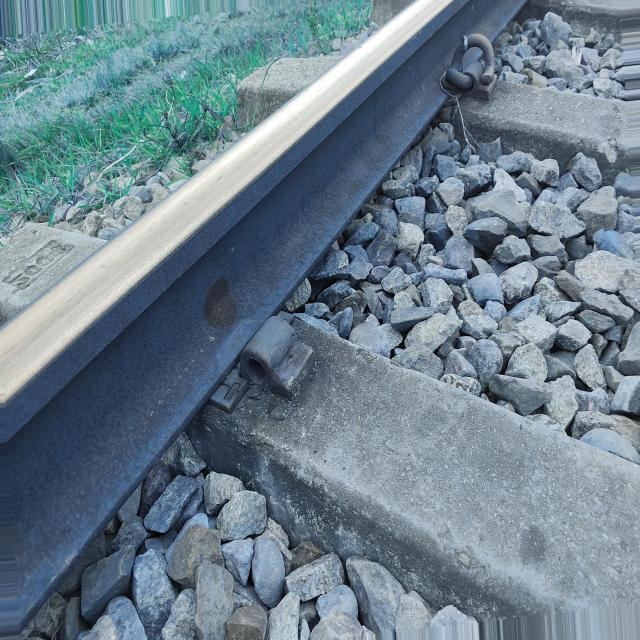Good Fasteners: (441, 34, 495, 97)
Missing Fastener: (240, 316, 313, 397)
